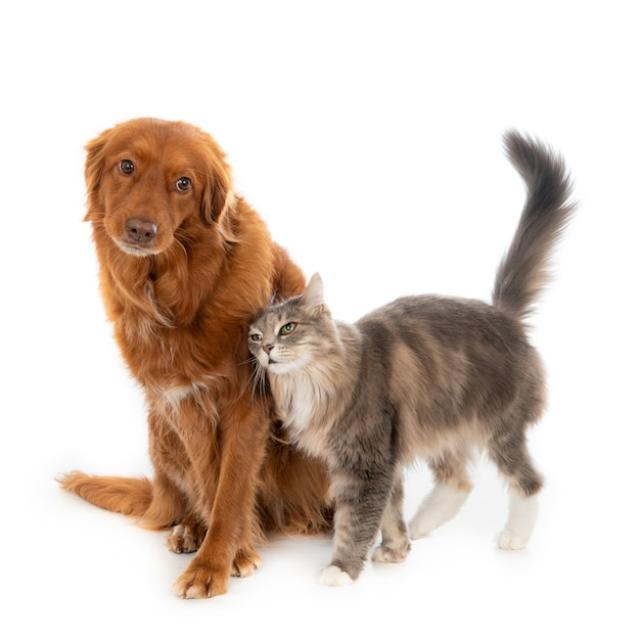Dog: (55, 116, 327, 601)
